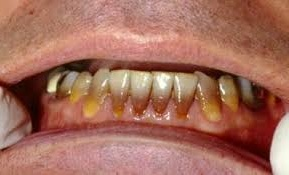Tooth Discoloration: (51, 76, 240, 125)
